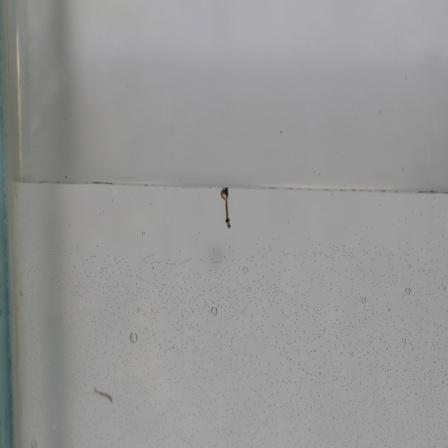Jentik-Nyamuk: (217, 185, 237, 233), (89, 383, 115, 408)
